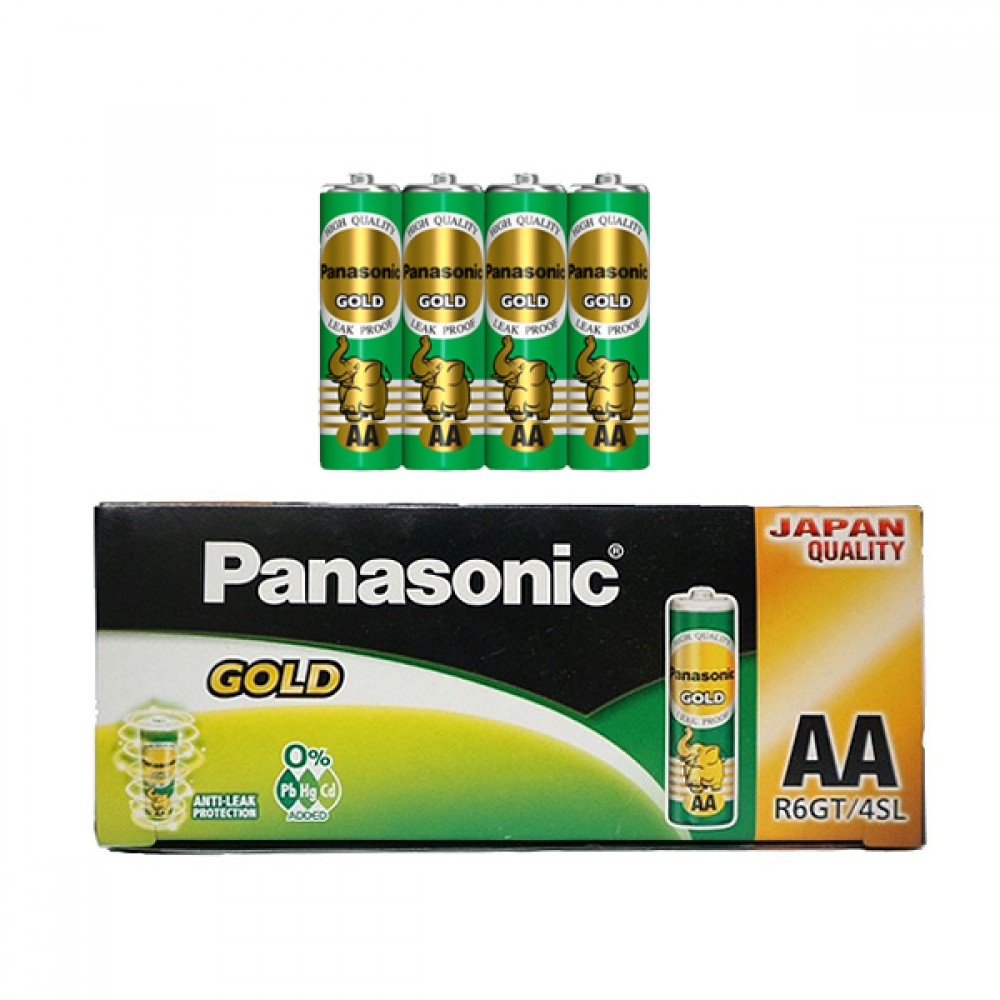Battery: (565, 165, 658, 473), (398, 169, 487, 473), (483, 167, 571, 474), (315, 167, 402, 477)
